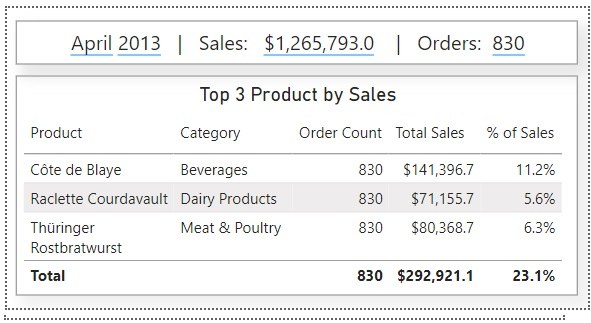

This screenshot's page, from the dashboard's own definition file:
{"tool":"powerbi","page":{"name":"Product Tooltip","canvas":[465,240],"ordinal":3},"visuals":[{"type":"tableEx","title":"Top 3 Product by Sales","fields":{"Values":["DimProducts.Product","DimProducts.Category","MeasuresTable.Order Count","MeasuresTable.Total Sales","MeasuresTable.% of Sales"]},"box":[7,54,450,176],"z":0,"group":"g1"},{"type":"textbox","box":[7,10,450,35],"z":1000,"group":"g1"},{"type":"group","id":"g1","title":"Group 1","box":[7,10,450,220],"z":1001}]}

Visuals, with their boxes on the page's 465x240 design canvas (x1, y1, x2, y2). These are canvas units, not pixel positions in the 591x323 screenshot, which may show the page scaled, cropped or inside an application window:
"Top 3 Product by Sales" tableEx: x1=7 y1=54 x2=457 y2=230
textbox: x1=7 y1=10 x2=457 y2=45
"Group 1" group: x1=7 y1=10 x2=457 y2=230
